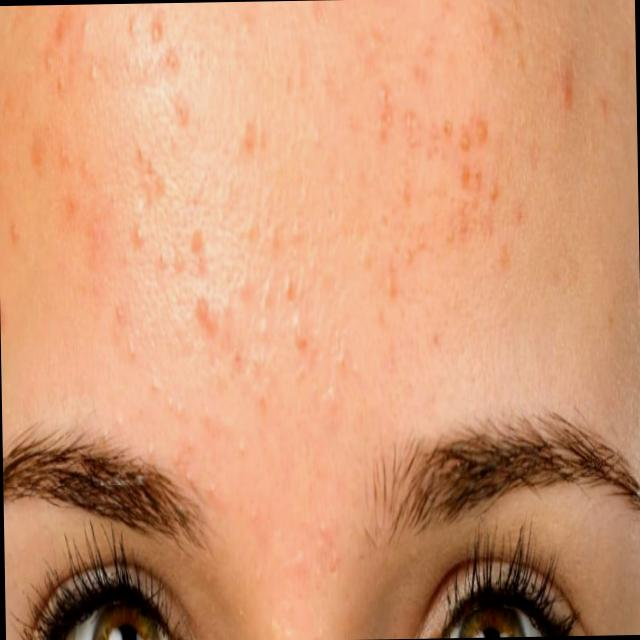fungal: (365, 0, 578, 364), (165, 48, 356, 438), (0, 2, 164, 323)
